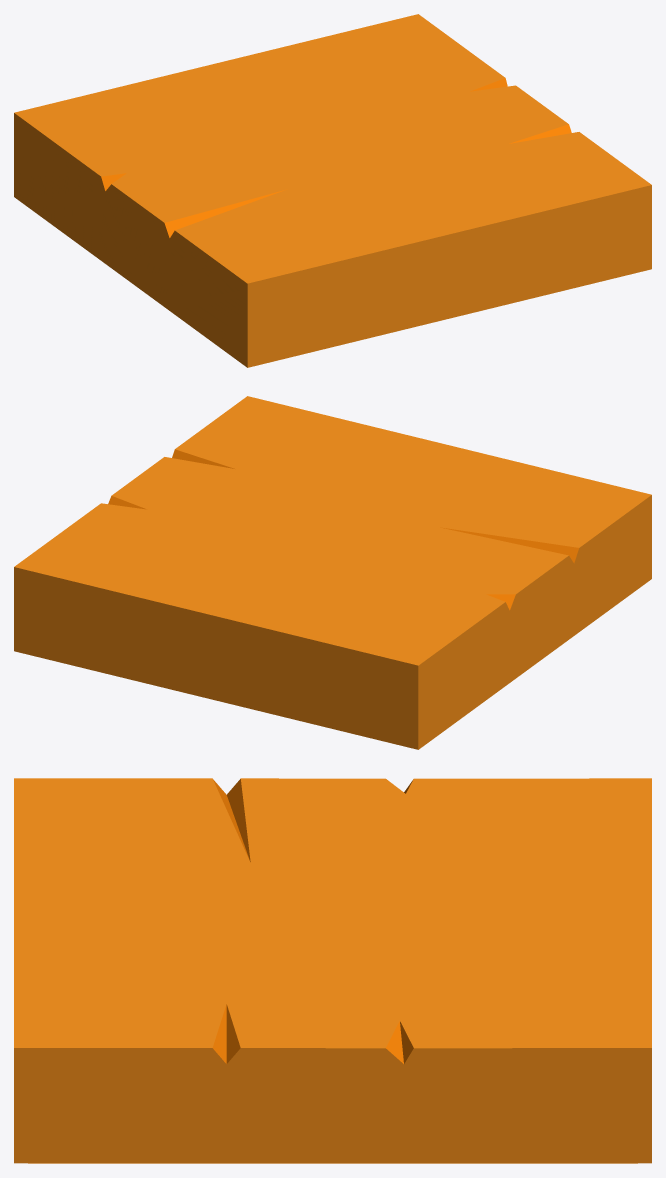
File: Counter_Top_03_S_C02.fbx
3 renders of one model, top to bottom at view 1: azimuth 30°, elevation 25°; view 2: azimuth 150°, elevation 25°; view 3: azimuth 270°, elevation 25°, orthographic. The views are drawn at different scales.
Visible parts, largest first — view 1: Counter_Top_03_S_C02; view 2: Counter_Top_03_S_C02; view 3: Counter_Top_03_S_C02.
Boxes of the visible parts, x1,y1,x2,y2 form: Counter_Top_03_S_C02: (14, 14, 651, 367); Counter_Top_03_S_C02: (14, 396, 651, 749); Counter_Top_03_S_C02: (14, 778, 651, 1163).
Bounding box in the file's own units: 100 × 21.09 × 100.
